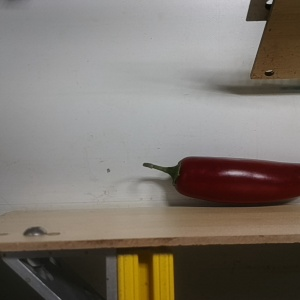Cut Point: (163, 156, 198, 195)
